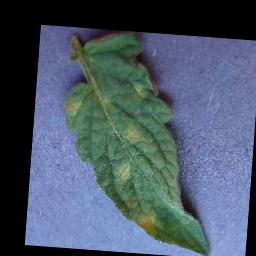Leaf_Mold: (60, 91, 83, 119), (135, 209, 158, 237), (120, 123, 144, 146), (115, 159, 133, 183)
